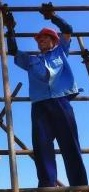boots: (0, 176, 8, 192)
gloves: (4, 28, 18, 55), (39, 0, 55, 18)
hard-hat: (34, 27, 59, 50)
